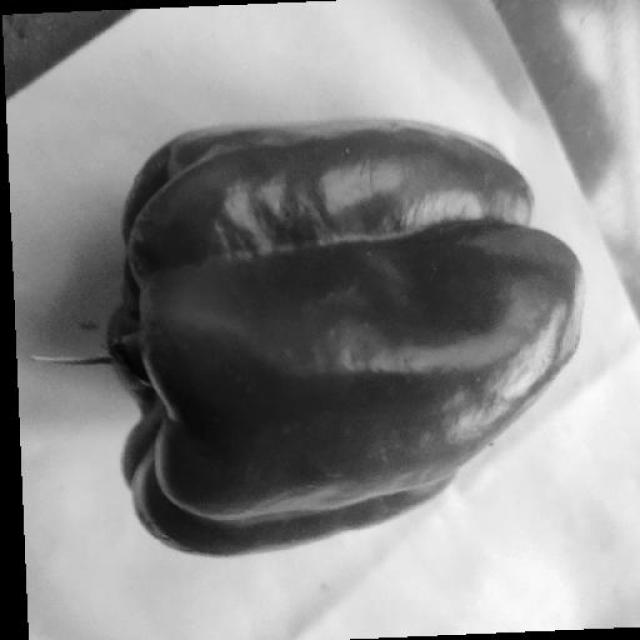Stale_Capsicum: (66, 136, 637, 524)
